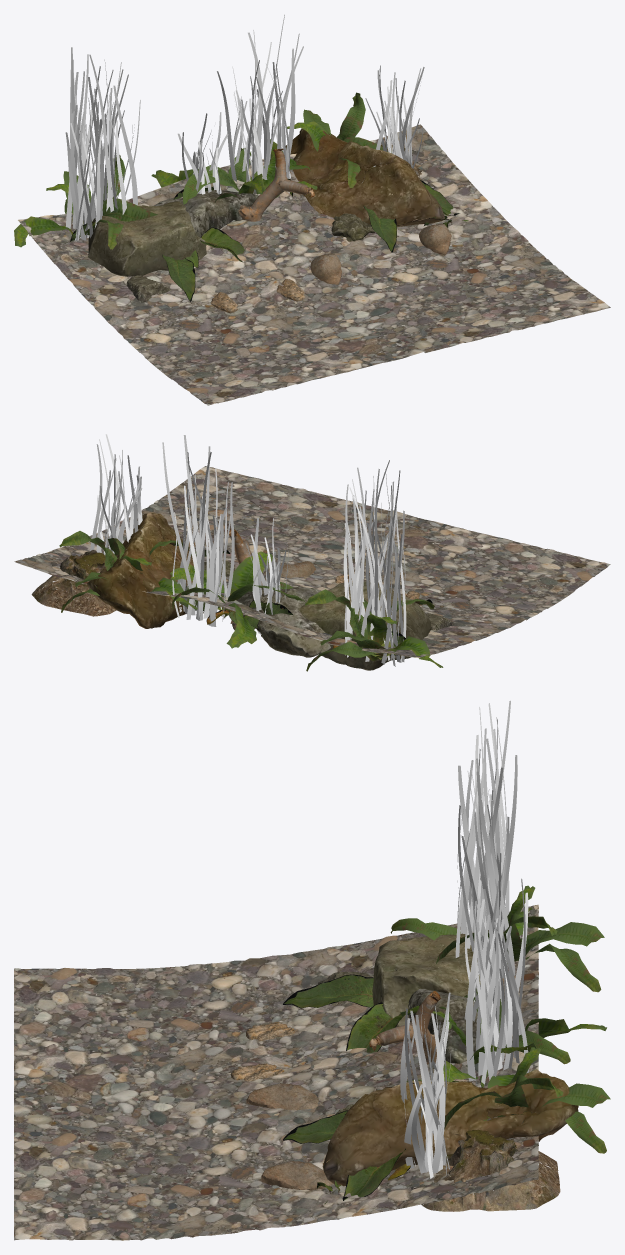
File: decor.glb
3 renders of one model, top to bottom at view 1: azimuth 30°, elevation 25°; view 2: azimuth 150°, elevation 25°; view 3: azimuth 270°, elevation 25°, orthographic. The views are drawn at different scales.
Visible parts, largest first — view 1: sol, rock_moss_set_01_rock01.001, herbier, rock_moss_set_02_rock07.001, herbier.001, fern_02_a.001, herbier.002, fern_02_d.001, rock_moss_set_02_rock10.001, fern_02_a.002, weed_plant_02_a_LOD0.002, dead_quiver_branch_01.001 (+6 smaller); view 2: sol, herbier, rock_moss_set_01_rock01.001, herbier.001, rock_moss_set_02_rock07.001, fern_02_a.001, rock_moss_set_02_rock10.001, herbier.002, tree_stump_01.001, fern_02_d.001, fern_02_a.002, herbier.003 (+3 smaller); view 3: sol, rock_moss_set_01_rock01.001, herbier, herbier.001, tree_stump_01.001, rock_moss_set_02_rock07.001, herbier.002, fern_02_a.001, fern_02_a.002, weed_plant_02_a_LOD0.002, fern_02_d.001, weed_plant_02_a_LOD0.001 (+4 smaller).
Part boxes in pixels (box(x1,y1,x2,y2)): sol: box(18, 124, 610, 405); rock_moss_set_01_rock01.001: box(285, 128, 444, 226); herbier: box(65, 47, 140, 241); rock_moss_set_02_rock07.001: box(88, 201, 206, 276); herbier.001: box(217, 14, 303, 181); fern_02_a.001: box(14, 155, 157, 249); herbier.002: box(365, 65, 424, 168); fern_02_d.001: box(151, 139, 317, 219); rock_moss_set_02_rock10.001: box(154, 190, 258, 237); fern_02_a.002: box(287, 92, 391, 188); weed_plant_02_a_LOD0.002: box(135, 227, 244, 301); dead_quiver_branch_01.001: box(238, 148, 314, 221); sol: box(14, 466, 610, 657); herbier: box(343, 460, 406, 666); rock_moss_set_01_rock01.001: box(87, 512, 204, 628); herbier.001: box(162, 435, 234, 626); rock_moss_set_02_rock07.001: box(298, 581, 430, 670); fern_02_a.001: box(305, 589, 443, 671); rock_moss_set_02_rock10.001: box(236, 585, 330, 657); herbier.002: box(90, 434, 142, 554); tree_stump_01.001: box(31, 550, 122, 616); fern_02_d.001: box(170, 551, 305, 648); fern_02_a.002: box(59, 531, 197, 612); herbier.003: box(246, 518, 290, 634); sol: box(14, 904, 538, 1240); rock_moss_set_01_rock01.001: box(322, 1069, 578, 1186); herbier: box(455, 700, 517, 980); herbier.001: box(466, 853, 528, 1086); tree_stump_01.001: box(421, 1129, 560, 1211); rock_moss_set_02_rock07.001: box(372, 933, 480, 1027); herbier.002: box(400, 992, 450, 1178); fern_02_a.001: box(390, 885, 604, 992); fern_02_a.002: box(406, 1047, 610, 1153); weed_plant_02_a_LOD0.002: box(283, 974, 412, 1053); fern_02_d.001: box(400, 989, 606, 1082); weed_plant_02_a_LOD0.001: box(283, 1110, 410, 1200).
Bounding box in the file's own units: 1.14 × 0.5965 × 1.02.
Materials: 9 (8 with a texture image).
